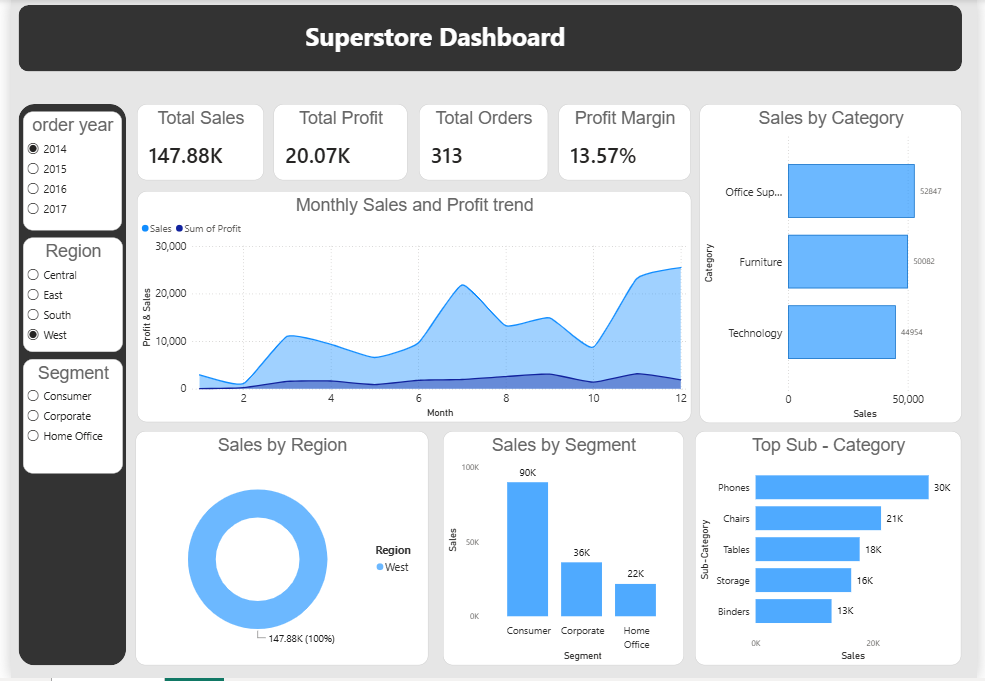

This screenshot's page, from the dashboard's own definition file:
{"tool":"powerbi","page":{"name":"Page 1","canvas":[1450,1020],"ordinal":0},"visuals":[{"type":"shape","box":[11.7,156.7,161.7,843.3],"z":0},{"type":"shape","box":[11.2,8.8,1417.5,100],"z":1000},{"type":"textbox","box":[437.5,23.8,425,68.8],"z":2000},{"type":"cardVisual","title":"Total Profit","fields":{"Data":["Sum(Clean_Superstore.Profit)"]},"box":[394.5,156.6,201.6,114.8],"z":3000},{"type":"cardVisual","title":"Total Sales","fields":{"Data":["Sum(Clean_Superstore.Sales)"]},"box":[188.2,156.6,190.8,114.8],"z":4000},{"type":"cardVisual","title":"Total Orders","fields":{"Data":["Count(Clean_Superstore.Order ID)"]},"box":[613.1,156.6,193.9,114.8],"z":5000},{"type":"cardVisual","title":"Profit Margin","fields":{"Data":["Clean_Superstore.Profit Margin"]},"box":[822.5,156.6,198.5,114.8],"z":6000},{"type":"areaChart","title":"Monthly Sales and Profit trend","fields":{"Category":["Clean_Superstore.order month"],"Y":["Sum(Clean_Superstore.Sales)","Sum(Clean_Superstore.Profit)"]},"box":[188.2,288.9,832.8,347.4],"z":7000},{"type":"barChart","title":"Sales by Category","fields":{"Category":["Clean_Superstore.Category"],"Y":["Sum(Clean_Superstore.Sales)"]},"box":[1035,157.1,393.9,479.2],"z":9000},{"type":"donutChart","title":"Sales by Region","fields":{"Category":["Clean_Superstore.Region"],"Y":["Sum(Clean_Superstore.Sales)"]},"box":[187.9,648.7,440,351.7],"z":10000},{"type":"columnChart","title":"Sales by Segment","fields":{"Category":["Clean_Superstore.Segment"],"Y":["Sum(Clean_Superstore.Sales)"]},"box":[649.6,648.7,361.7,351.7],"z":11000},{"type":"listSlicer","fields":{"Values":["Clean_Superstore.order year"]},"box":[18.3,170,148.3,178.3],"z":12000},{"type":"clusteredBarChart","title":"Top Sub - Category","fields":{"Category":["Clean_Superstore.Sub-Category"],"Y":["Sum(Clean_Superstore.Sales)"]},"box":[1027.9,648.7,400,351.7],"z":13000},{"type":"listSlicer","title":"Region","fields":{"Values":["Clean_Superstore.Region"]},"box":[18.3,358.3,150,171.7],"z":14000},{"type":"listSlicer","title":"Segment","fields":{"Values":["Clean_Superstore.Segment"]},"box":[18.3,540,150,171.7],"z":15000}]}

Visuals, with their boxes in screenshot pixels (x1, y1, x2, y2), scaled from the page's 1450x1020 canvas onto the 985x681 screenshot:
shape: locate(8, 105, 118, 668)
shape: locate(8, 6, 971, 73)
textbox: locate(297, 16, 586, 62)
"Total Profit" cardVisual: locate(268, 105, 405, 181)
"Total Sales" cardVisual: locate(128, 105, 257, 181)
"Total Orders" cardVisual: locate(416, 105, 548, 181)
"Profit Margin" cardVisual: locate(559, 105, 694, 181)
"Monthly Sales and Profit trend" areaChart: locate(128, 193, 694, 425)
"Sales by Category" barChart: locate(703, 105, 971, 425)
"Sales by Region" donutChart: locate(128, 433, 427, 668)
"Sales by Segment" columnChart: locate(441, 433, 687, 668)
listSlicer - Clean_Superstore.order year: locate(12, 114, 113, 233)
"Top Sub - Category" clusteredBarChart: locate(698, 433, 970, 668)
"Region" listSlicer: locate(12, 239, 114, 354)
"Segment" listSlicer: locate(12, 361, 114, 475)
